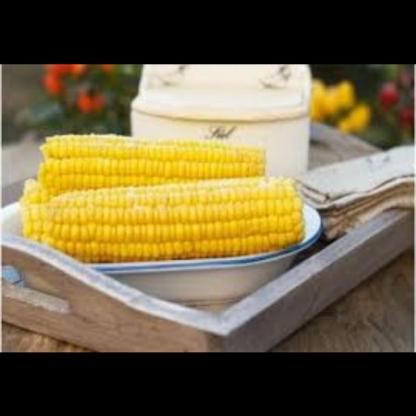corn: (19, 174, 320, 258), (28, 134, 284, 196)
